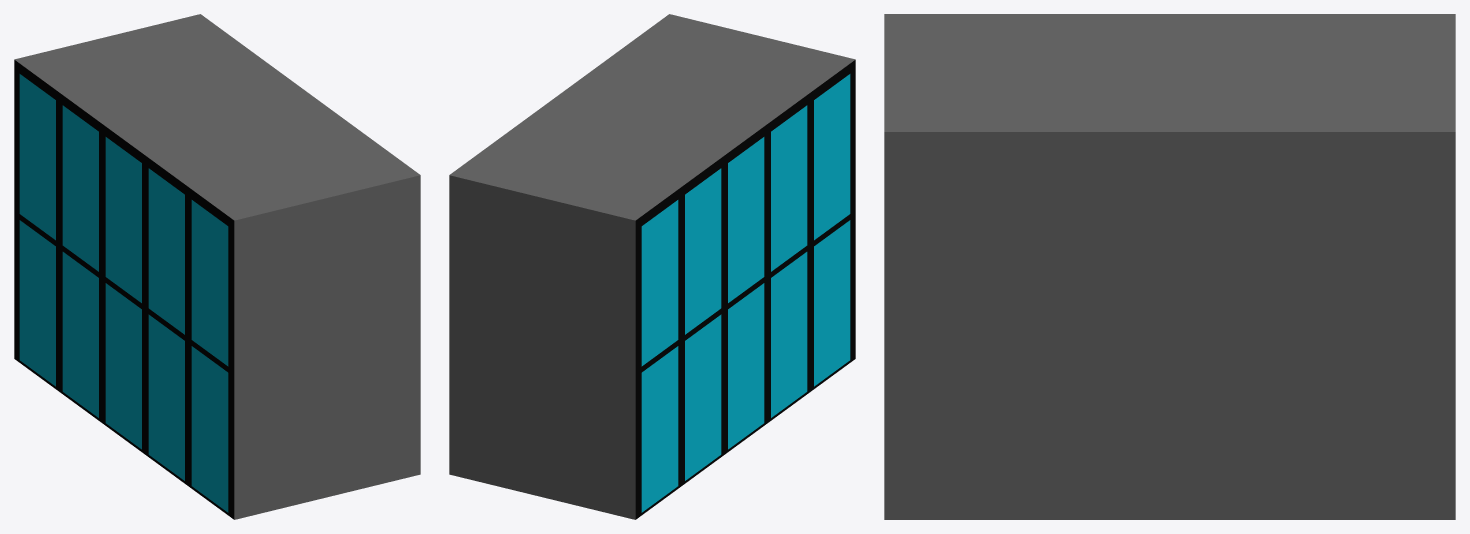
File: building_01.glb
3 views of the same model, side by side, from view 1: azimuth 30°, elevation 25°; view 2: azimuth 150°, elevation 25°; view 3: azimuth 270°, elevation 25° (orthographic). The views are drawn at different scales.
Parts seen in each view (by area): view 1: Cube, Cube.001; view 2: Cube, Cube.001; view 3: Cube.
Part boxes in pixels (x1,y1,x2,y2): Cube: (14,14,420,519); Cube.001: (19,74,228,512); Cube: (449,14,855,519); Cube.001: (641,74,850,512); Cube: (884,14,1455,519).
Bounding box in the file's own units: 4.01 × 6.14 × 8.19.
